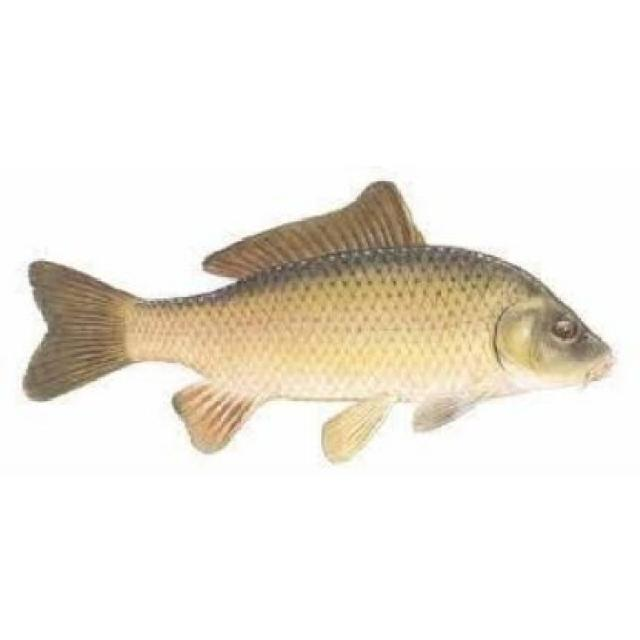ikan-mas: (26, 206, 614, 437)
